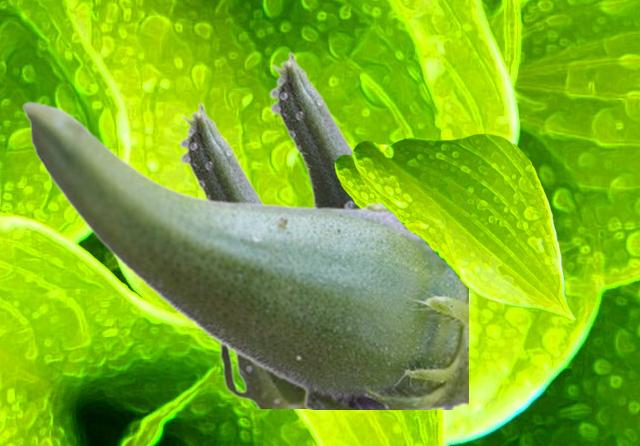okra: (21, 100, 467, 408), (178, 102, 303, 407), (268, 51, 356, 206)
